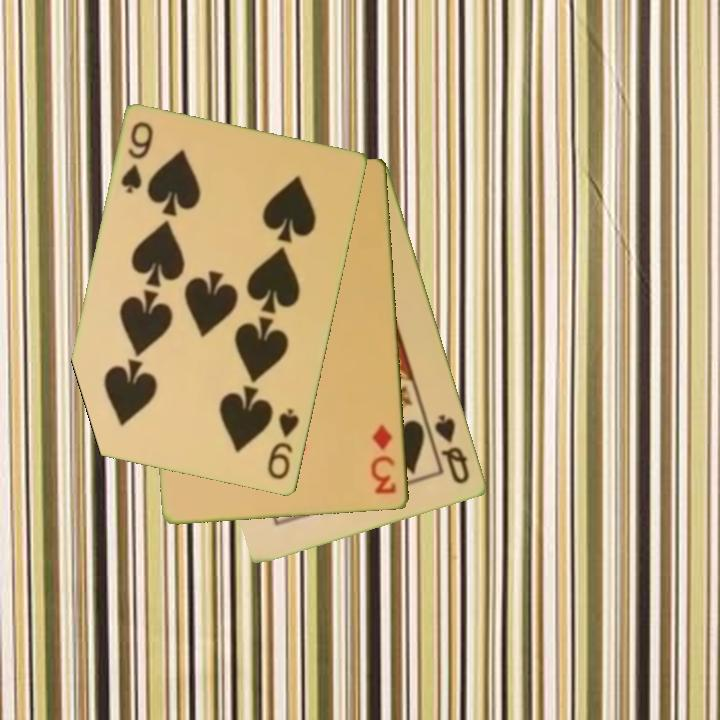3d: (368, 421, 399, 497)
9s: (118, 118, 157, 197), (264, 405, 303, 483)
Qs: (431, 411, 473, 487)
